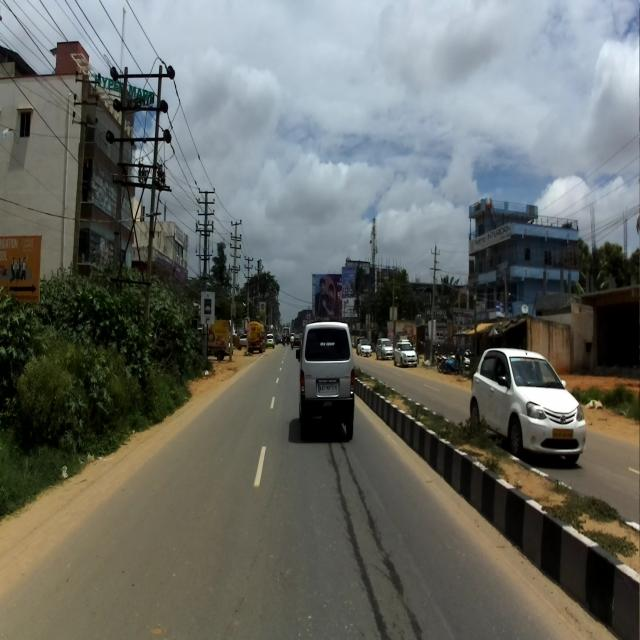Car_Maruti-Suzuki: (296, 321, 357, 438)
Car_Toyota: (469, 347, 585, 464)
